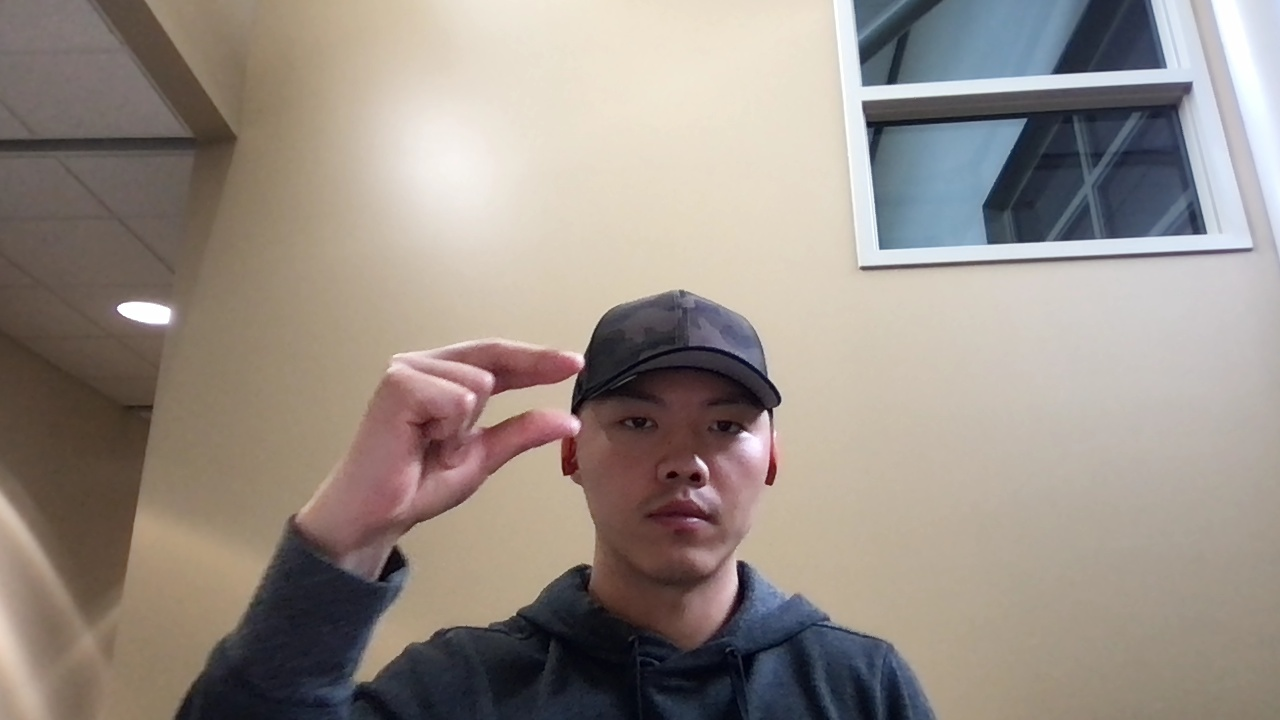No: (289, 340, 587, 537)
